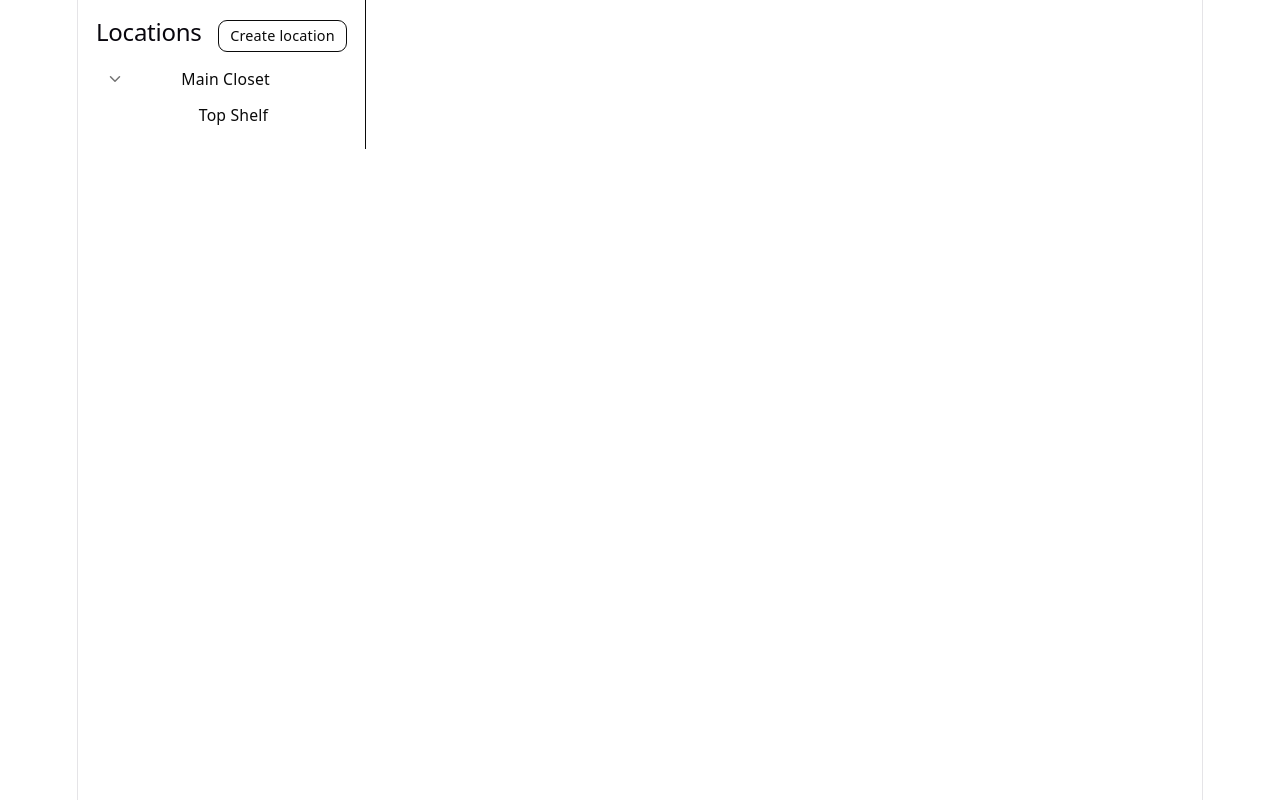
Test: LocationsPage › LocationsPage should show selected location details and its items in right panel when location clicked
The width and height of the screenshot is (1280, 800).
Expected: the text "Main Closet" is shown, x1=181 y1=68 x2=270 y2=90
What coordinates should you click on to do the following:
click the button with test id "tree-node-loc-001"
I would click on:
 (187, 79)
Its box is x1=104 y1=68 x2=270 y2=90.
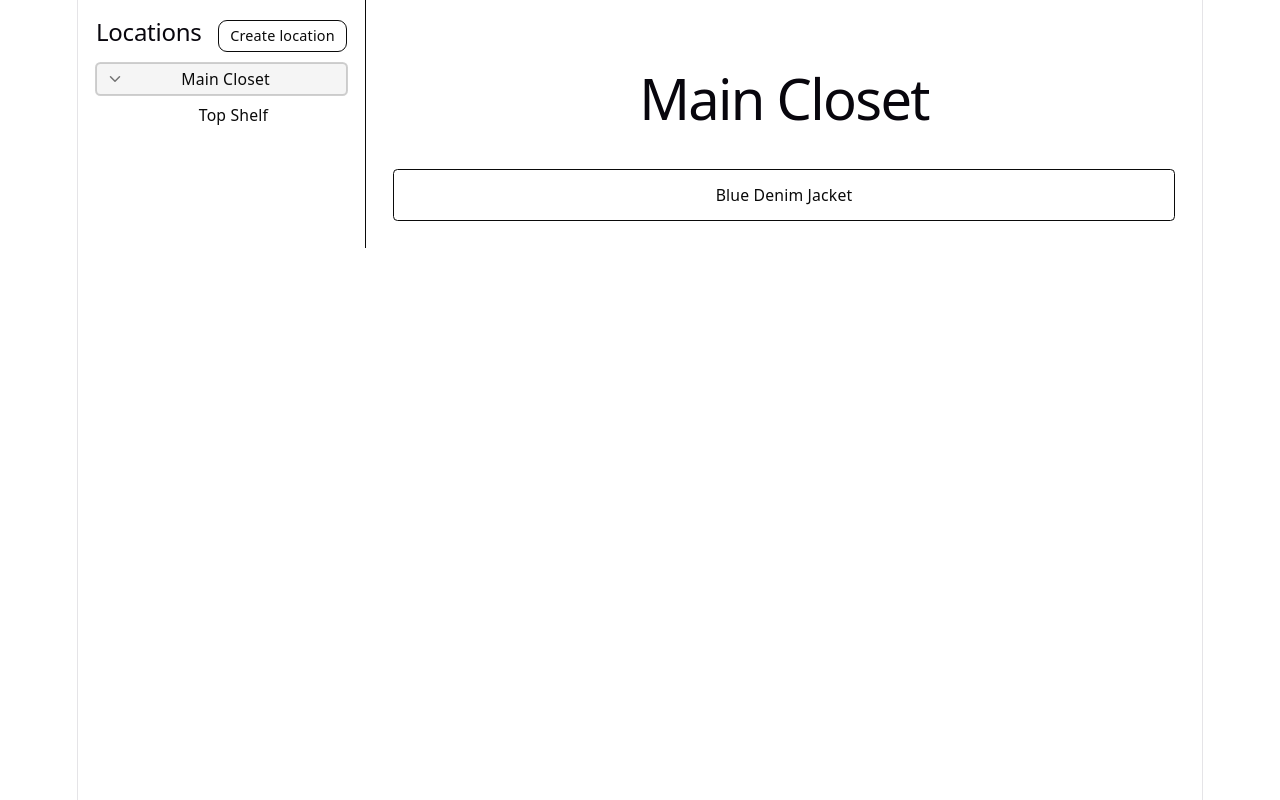
Expected: the element with test id "location-detail-panel" is shown, x1=366 y1=0 x2=1202 y2=248
Expected: the text "Blue Denim Jacket" is shown, x1=393 y1=169 x2=1175 y2=221
